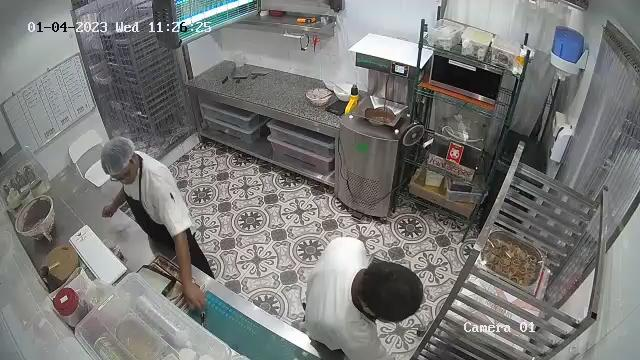apron: (120, 149, 180, 255)
